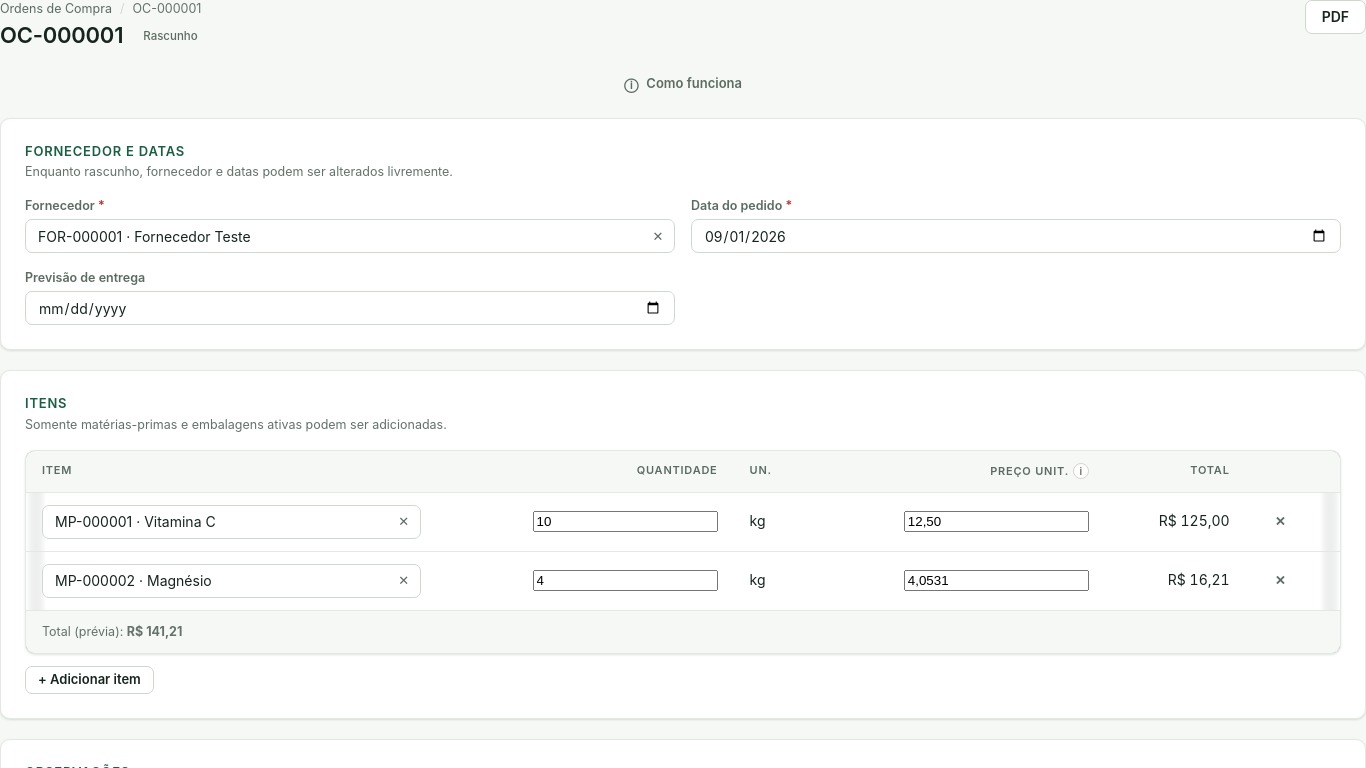
Test case: Total da OC em edição é prévia da tela › I. servidor recusando o payload não transforma a prévia em dado gravado
Expected: the heading "OC-000001" is shown, [0, 22, 123, 50]
Replace the text in the field named "Quantidade de MP-000001" with "20": (625, 522) [533, 511, 718, 532]
(page scrolled)
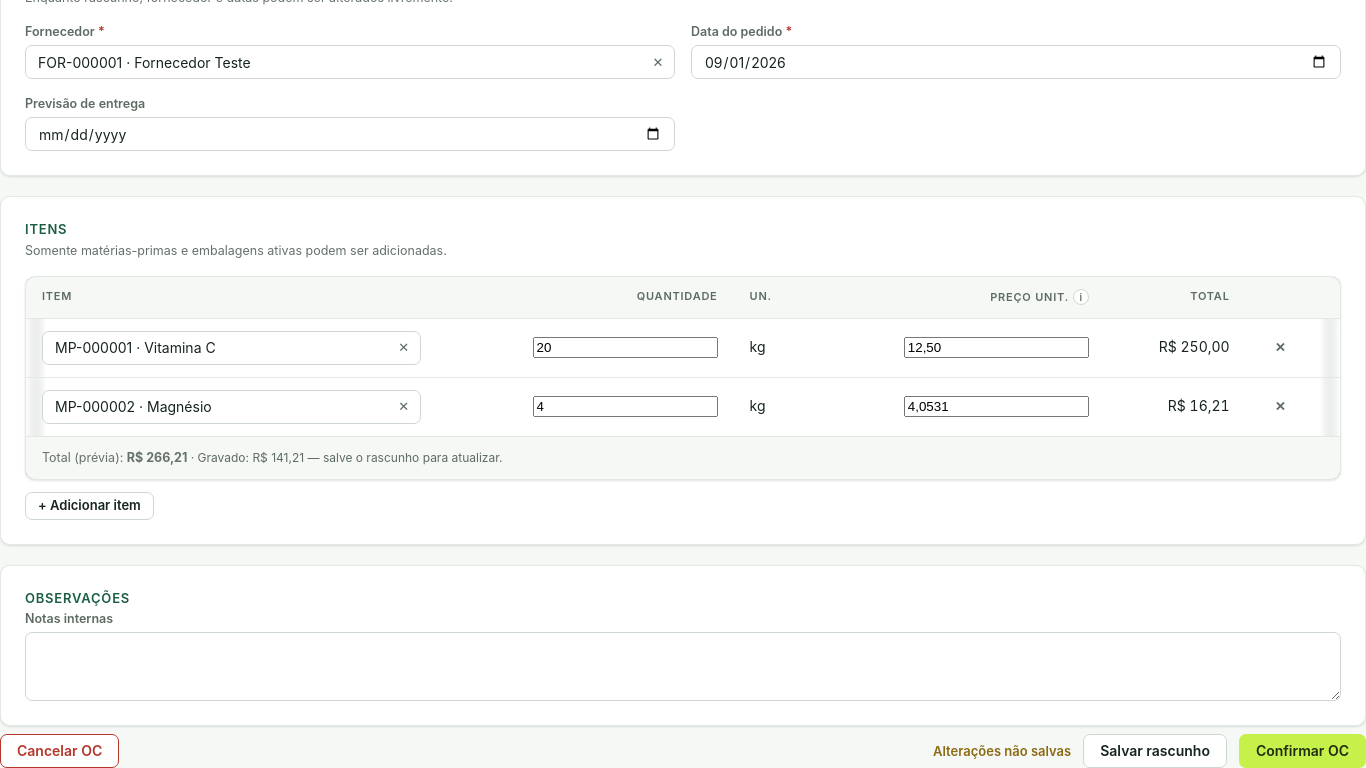
Click the button "Salvar rascunho": (1155, 751) [1083, 734, 1227, 767]
(page scrolled)
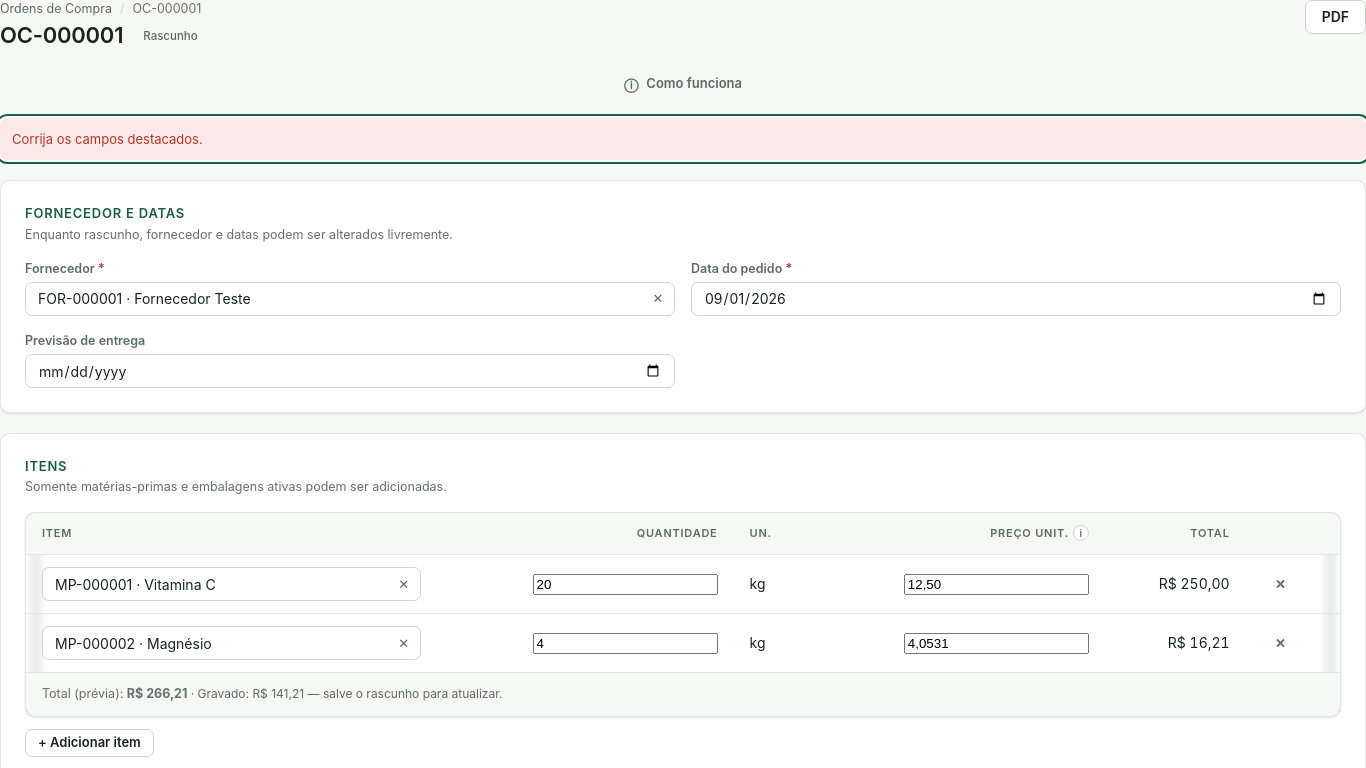
Now the element with class "table-foot" shows "Total (prévia): R$ 266,21", box [26, 672, 1340, 716]
Now the element with class "table-foot" shows "Gravado: R$ 141,21", box [26, 672, 1340, 716]
Now the text "Corrija os campos destacados." is shown, box [0, 118, 1365, 160]
